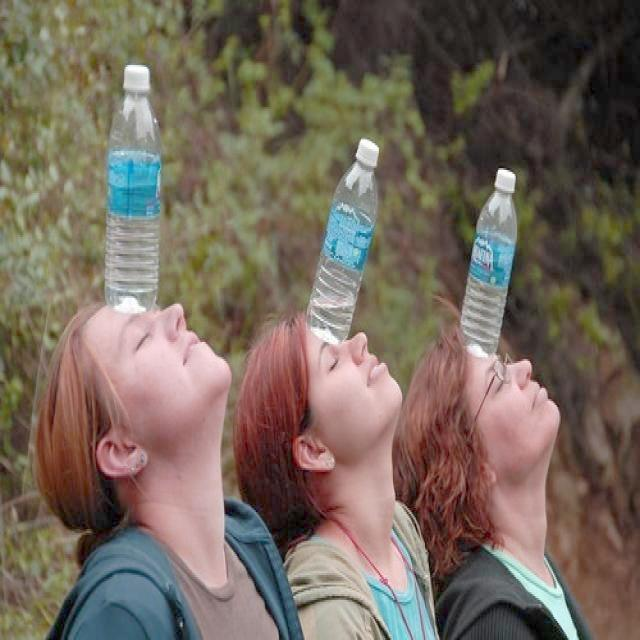bottle: (306, 139, 380, 345), (104, 66, 163, 314), (459, 168, 518, 359)
